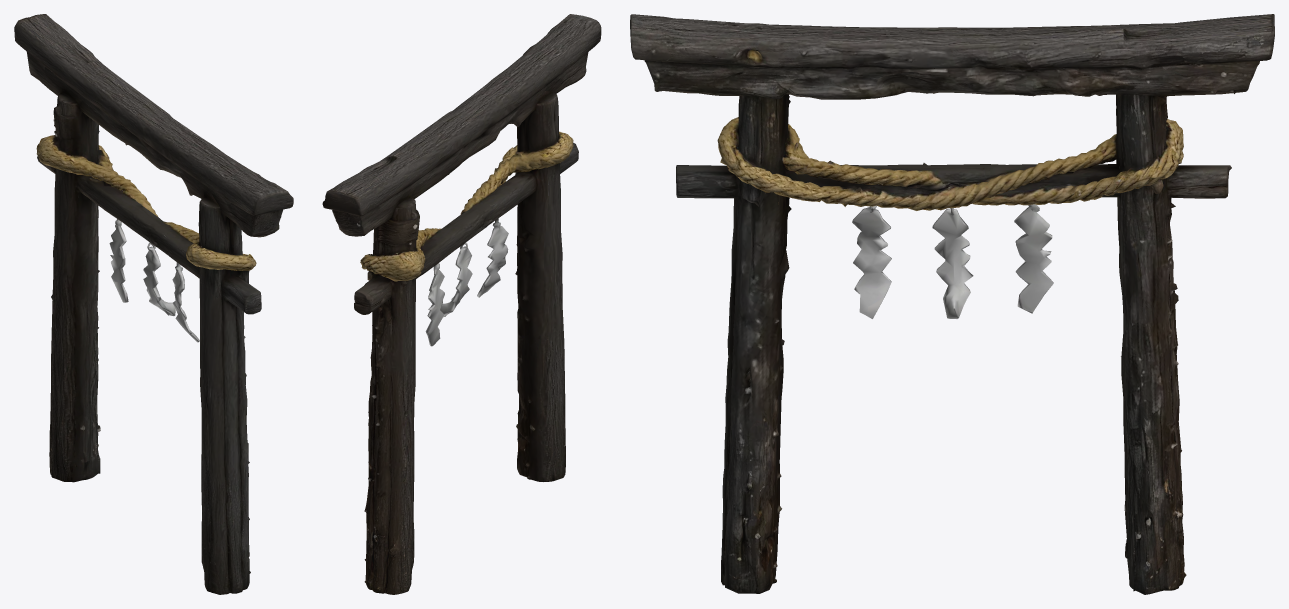
Rendered from shimenawa-gate.glb.
3 renders of one model, left to right at view 1: azimuth 30°, elevation 25°; view 2: azimuth 150°, elevation 25°; view 3: azimuth 270°, elevation 25°, orthographic. The views are drawn at different scales.
Parts seen in each view (by area): view 1: tripo_node_60340741-370c-4f8f-ad30-f782b444df3d; view 2: tripo_node_60340741-370c-4f8f-ad30-f782b444df3d; view 3: tripo_node_60340741-370c-4f8f-ad30-f782b444df3d.
Part boxes in pixels (x1=…): tripo_node_60340741-370c-4f8f-ad30-f782b444df3d: x1=14, y1=14, x2=293, y2=594; tripo_node_60340741-370c-4f8f-ad30-f782b444df3d: x1=322, y1=14, x2=601, y2=594; tripo_node_60340741-370c-4f8f-ad30-f782b444df3d: x1=630, y1=14, x2=1274, y2=594.
Size of the model in its own units: 0.1529 by 0.9644 by 0.9998.
Materials: 1 (1 with a texture image).
